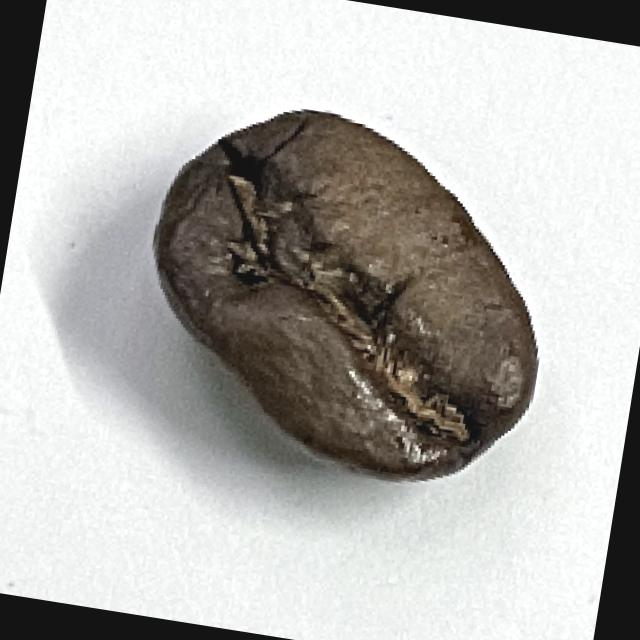bean: (119, 84, 580, 505)
